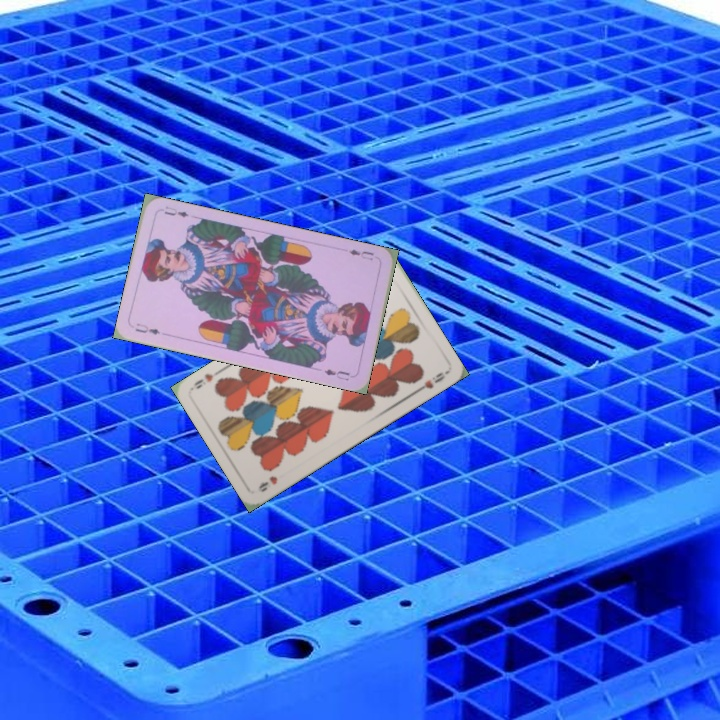EU: (131, 319, 163, 337), (345, 245, 376, 262)
H9: (254, 472, 280, 495)
